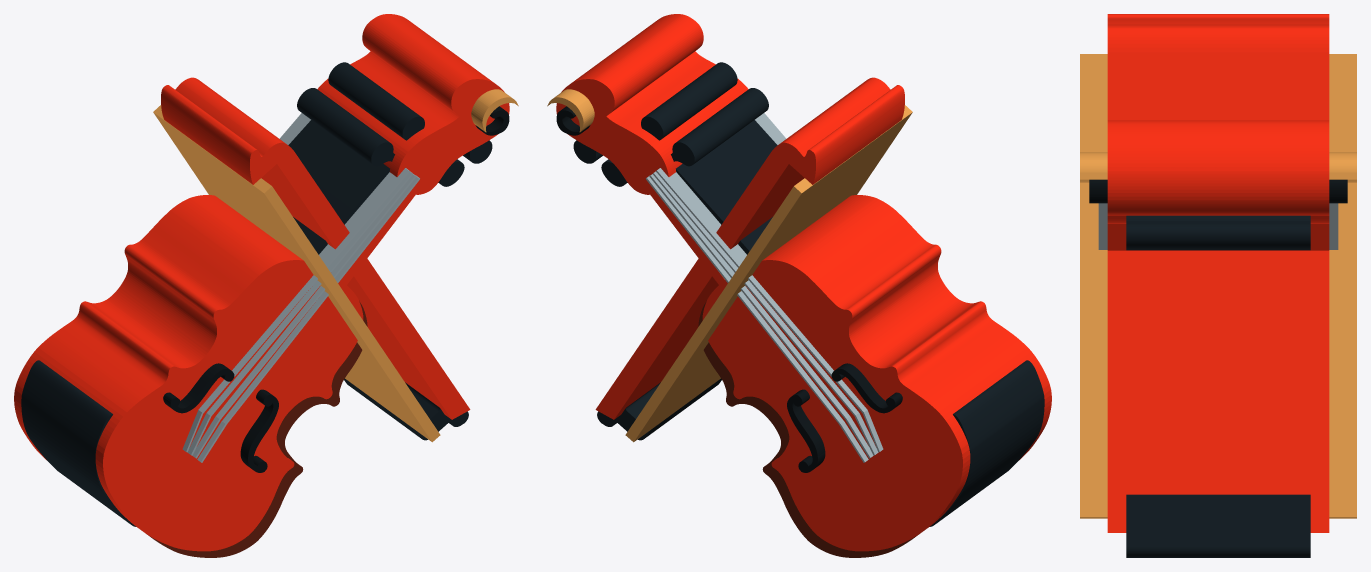
3 renders of one model, left to right at view 1: azimuth 30°, elevation 25°; view 2: azimuth 150°, elevation 25°; view 3: azimuth 270°, elevation 25°, orthographic. The views are drawn at different scales.
Visible parts, largest first — view 1: U+1F3BB_layer02_obj02, U+1F3BB_layer02_obj01, U+1F3BB_layer02_obj03, U+1F3BB_layer05_obj01, U+1F3BB_layer00_obj00, U+1F3BB_layer00_obj03, U+1F3BB_layer01_obj01, U+1F3BB_layer03_obj05, U+1F3BB_layer00_obj01, U+1F3BB_layer00_obj04, U+1F3BB_layer03_obj07, U+1F3BB_layer03_obj01 (+6 smaller); view 2: U+1F3BB_layer02_obj02, U+1F3BB_layer02_obj01, U+1F3BB_layer02_obj03, U+1F3BB_layer05_obj01, U+1F3BB_layer00_obj00, U+1F3BB_layer00_obj03, U+1F3BB_layer01_obj01, U+1F3BB_layer03_obj05, U+1F3BB_layer00_obj01, U+1F3BB_layer00_obj04, U+1F3BB_layer03_obj07, U+1F3BB_layer03_obj01 (+6 smaller); view 3: U+1F3BB_layer02_obj01, U+1F3BB_layer05_obj01, U+1F3BB_layer02_obj03, U+1F3BB_layer00_obj07, U+1F3BB_layer00_obj06, U+1F3BB_layer05_obj00, U+1F3BB_layer02_obj00, U+1F3BB_layer04_obj00, U+1F3BB_layer03_obj07, U+1F3BB_layer00_obj05.
Part boxes in pixels (left/top/right/bottom): U+1F3BB_layer02_obj02: left=14, top=195, right=363, bottom=551; U+1F3BB_layer02_obj01: left=161, top=77, right=470, bottom=419; U+1F3BB_layer02_obj03: left=317, top=14, right=509, bottom=194; U+1F3BB_layer05_obj01: left=153, top=105, right=440, bottom=442; U+1F3BB_layer00_obj00: left=21, top=360, right=136, bottom=526; U+1F3BB_layer00_obj03: left=288, top=120, right=389, bottom=254; U+1F3BB_layer01_obj01: left=148, top=301, right=367, bottom=557; U+1F3BB_layer03_obj05: left=198, top=113, right=409, bottom=413; U+1F3BB_layer00_obj01: left=297, top=88, right=394, bottom=166; U+1F3BB_layer00_obj04: left=328, top=62, right=424, bottom=140; U+1F3BB_layer03_obj07: left=222, top=175, right=419, bottom=424; U+1F3BB_layer03_obj01: left=216, top=174, right=416, bottom=419; U+1F3BB_layer02_obj02: left=702, top=195, right=1051, bottom=551; U+1F3BB_layer02_obj01: left=595, top=77, right=904, bottom=419; U+1F3BB_layer02_obj03: left=556, top=14, right=748, bottom=194; U+1F3BB_layer05_obj01: left=625, top=105, right=912, bottom=442; U+1F3BB_layer00_obj00: left=929, top=360, right=1044, bottom=526; U+1F3BB_layer00_obj03: left=676, top=120, right=777, bottom=254; U+1F3BB_layer01_obj01: left=698, top=301, right=917, bottom=557; U+1F3BB_layer03_obj05: left=656, top=113, right=867, bottom=412; U+1F3BB_layer00_obj01: left=671, top=88, right=768, bottom=166; U+1F3BB_layer00_obj04: left=641, top=62, right=737, bottom=140; U+1F3BB_layer03_obj07: left=646, top=175, right=843, bottom=424; U+1F3BB_layer03_obj01: left=649, top=174, right=849, bottom=419; U+1F3BB_layer02_obj01: left=1107, top=14, right=1329, bottom=532; U+1F3BB_layer05_obj01: left=1080, top=54, right=1356, bottom=518; U+1F3BB_layer02_obj03: left=1107, top=120, right=1329, bottom=223; U+1F3BB_layer00_obj07: left=1126, top=494, right=1310, bottom=557; U+1F3BB_layer00_obj06: left=1126, top=215, right=1310, bottom=249; U+1F3BB_layer05_obj00: left=1080, top=152, right=1356, bottom=182; U+1F3BB_layer02_obj00: left=1107, top=224, right=1329, bottom=250; U+1F3BB_layer04_obj00: left=1089, top=179, right=1347, bottom=203; U+1F3BB_layer03_obj07: left=1098, top=203, right=1338, bottom=249; U+1F3BB_layer00_obj05: left=1126, top=249, right=1310, bottom=250.
Size of the model in its own units: 0.3168 by 0.3132 by 0.15.
